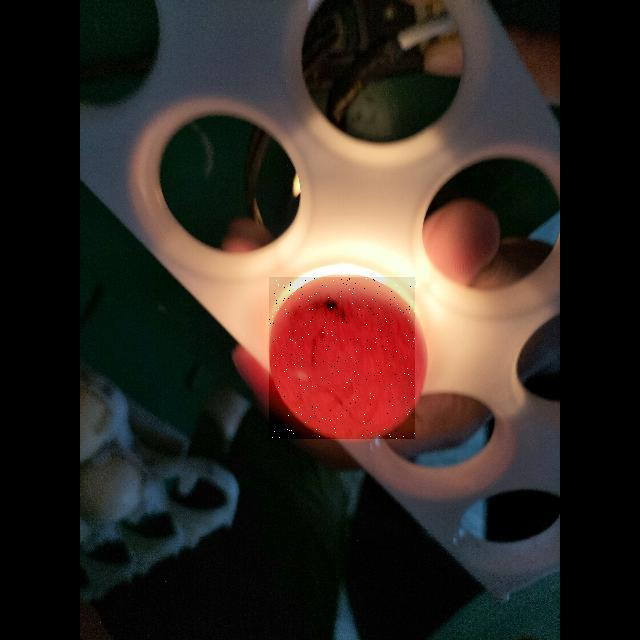Infertile: (269, 277, 415, 439)
